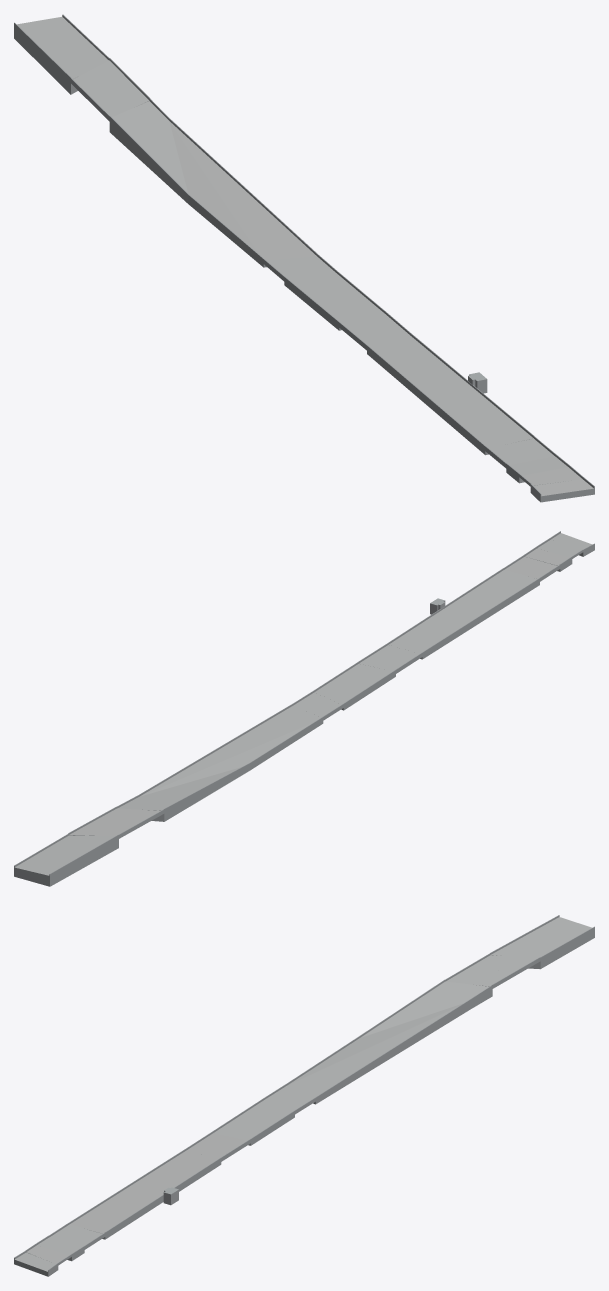
Rendered from d11-north-linear.glb.
The picture shows the model from 3 angles, top to bottom: view 1: azimuth 30°, elevation 25°; view 2: azimuth 150°, elevation 25°; view 3: azimuth 330°, elevation 25°; orthographic projection. The views are drawn at different scales.
Visible parts, largest first — view 1: brid_cb8a47ec-def6-47a9-9366-b294a047ee63; view 2: brid_cb8a47ec-def6-47a9-9366-b294a047ee63; view 3: brid_cb8a47ec-def6-47a9-9366-b294a047ee63.
Part boxes in pixels (x1,y1,x2,y2): brid_cb8a47ec-def6-47a9-9366-b294a047ee63: (14,14,594,502); brid_cb8a47ec-def6-47a9-9366-b294a047ee63: (14,531,594,886); brid_cb8a47ec-def6-47a9-9366-b294a047ee63: (14,915,594,1276).
Bounding box in the file's own units: 49.94 × 6.3 × 415.
1 material, 1 textured.
